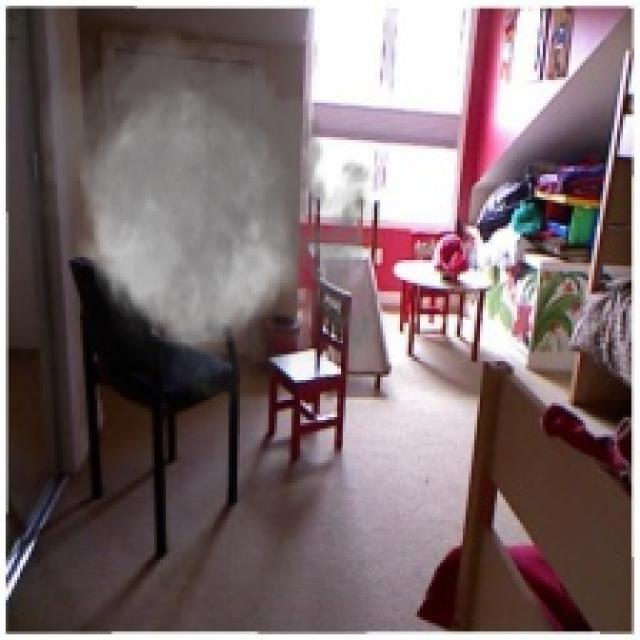Smoke: (26, 11, 394, 423)
